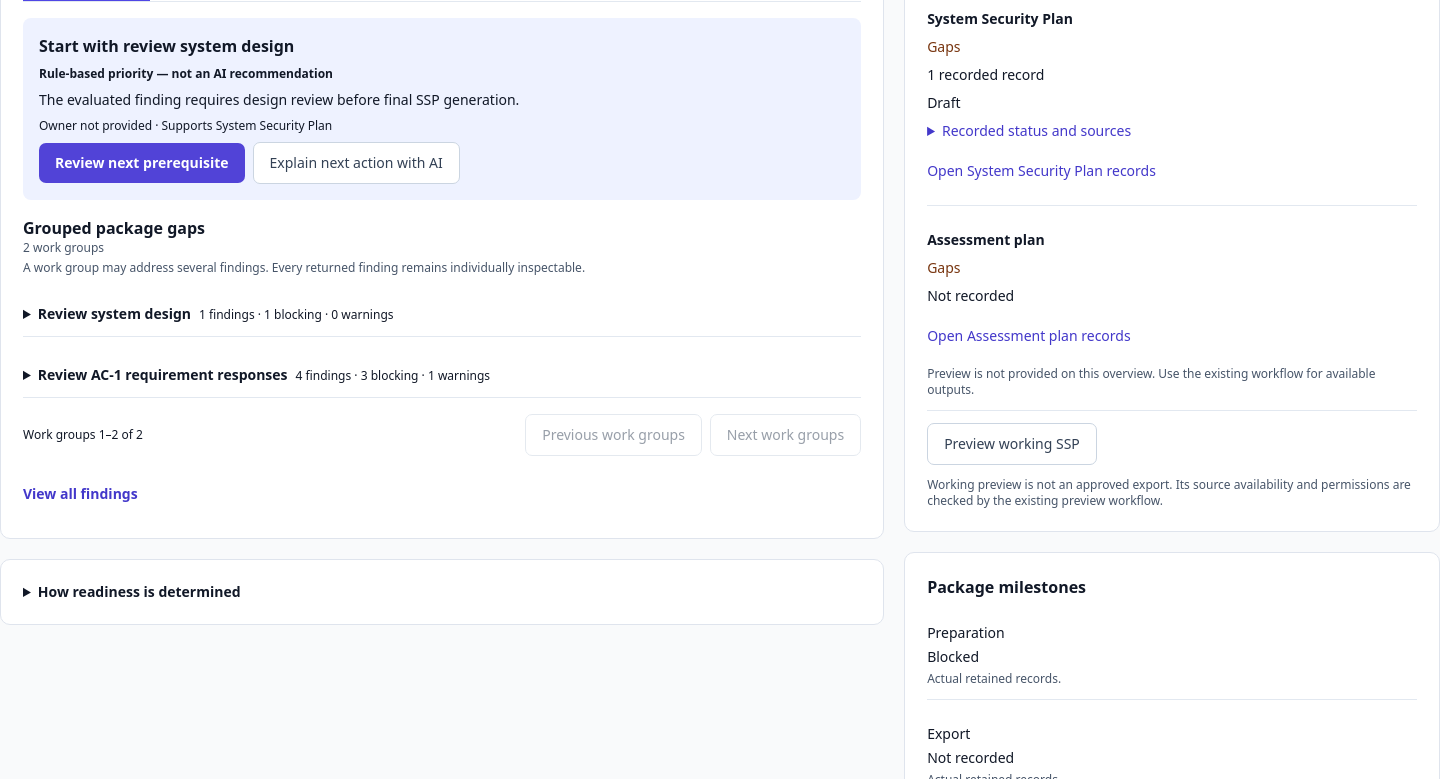
Scenario: RMF journey overview › uses supported prerequisite priority and retains underlying technical findings
(page scrolled)
expect the text "2 work groups" is shown: met, box x1=23 y1=238 x2=104 y2=256
Click the text "Review AC-1 requirement responses".
click(163, 374)  # box x1=38 y1=364 x2=288 y2=384
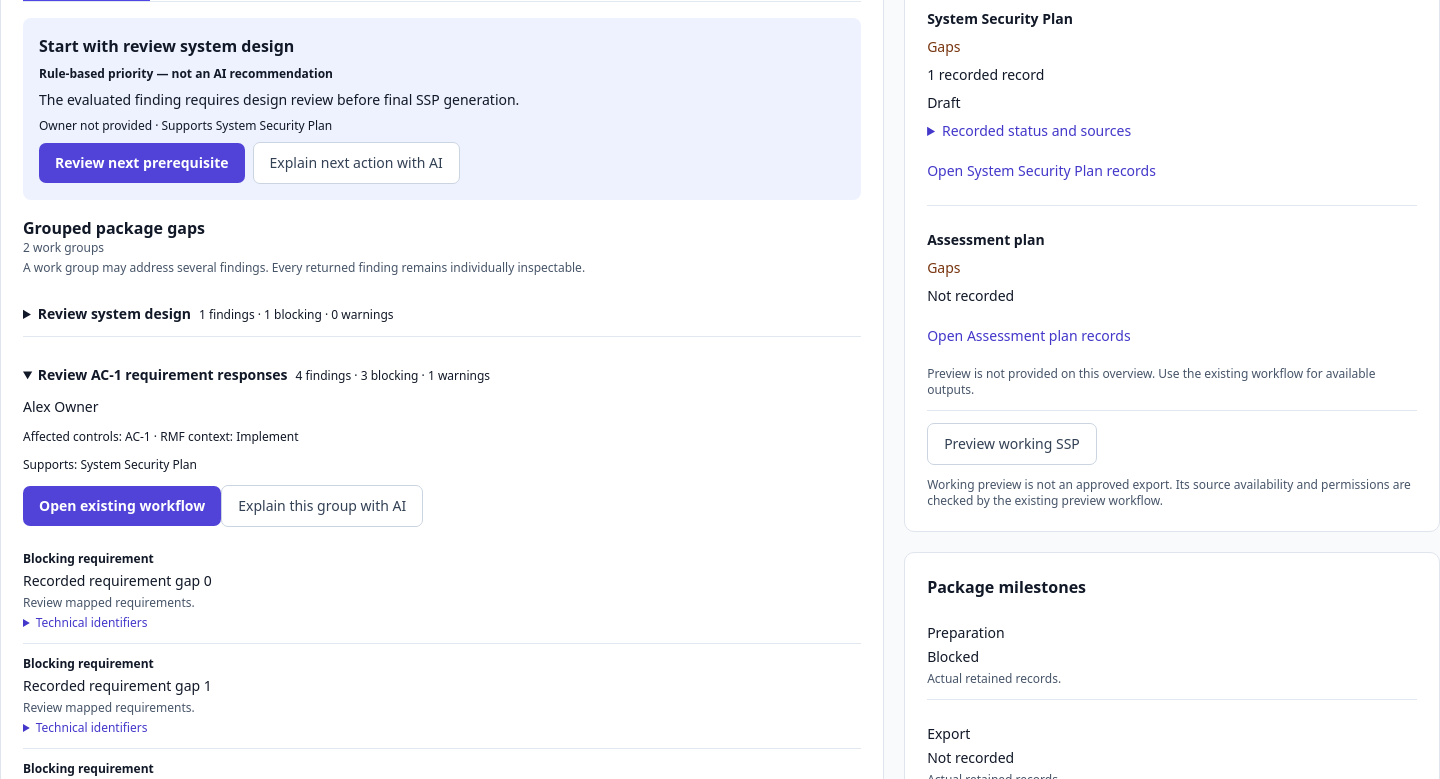
expect the text "Rule-based priority — not an AI recommendation" is shown: met, box x1=39 y1=64 x2=333 y2=82
expect the text "Alex Owner" is shown: met, box x1=23 y1=396 x2=98 y2=416
expect the text "Recorded requirement gap 0" is shown: met, box x1=23 y1=570 x2=212 y2=590
Click the heading "Technical identifiers" below "Recorded requirement gap 0".
click(92, 622)  # box x1=36 y1=614 x2=148 y2=630
(page scrolled)
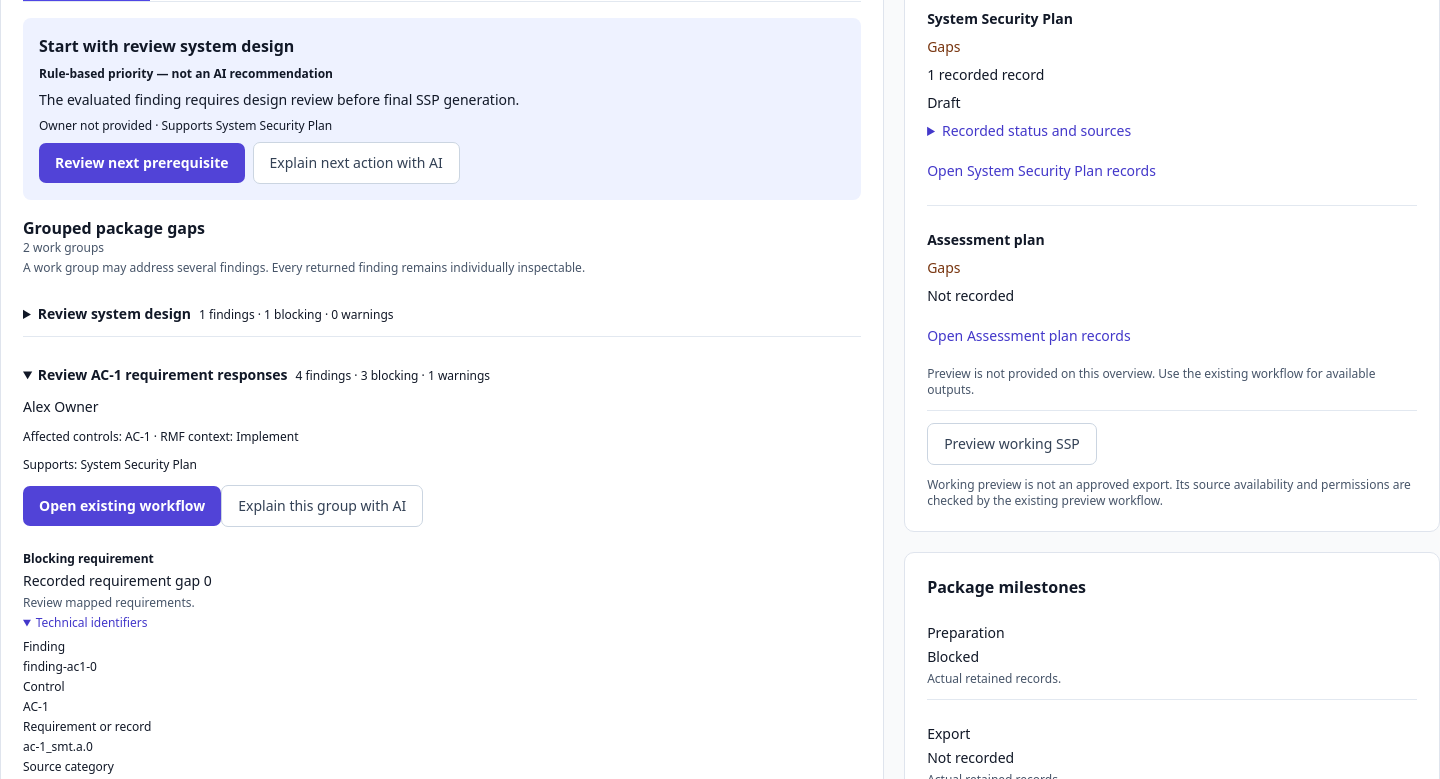
expect the text "ac-1_smt.a.0" is shown: met, box x1=23 y1=738 x2=93 y2=754
